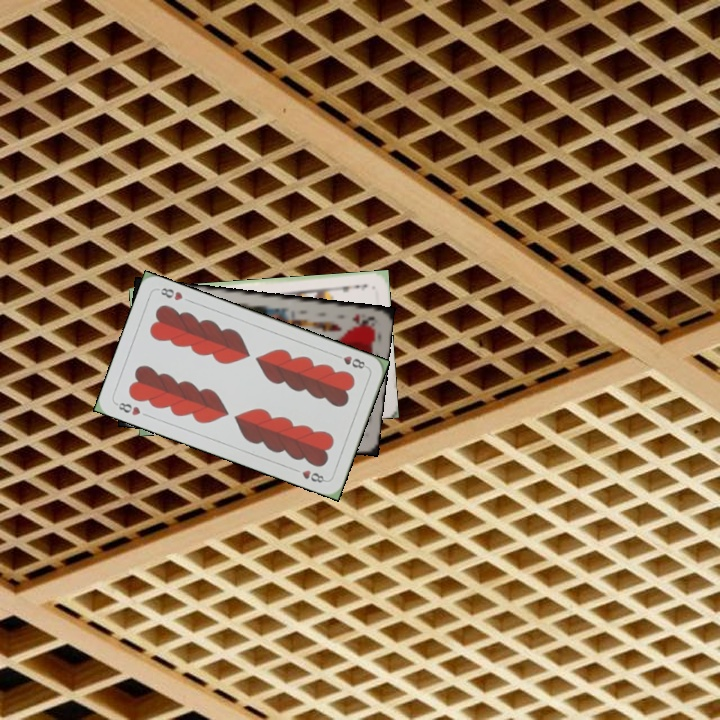E7: (332, 280, 370, 294)
H8: (331, 350, 370, 371), (112, 398, 143, 418)
HK: (348, 310, 377, 328)
